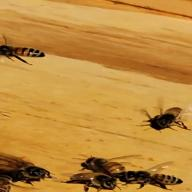Bee: (73, 155, 192, 191), (134, 104, 192, 135), (0, 36, 48, 71)
